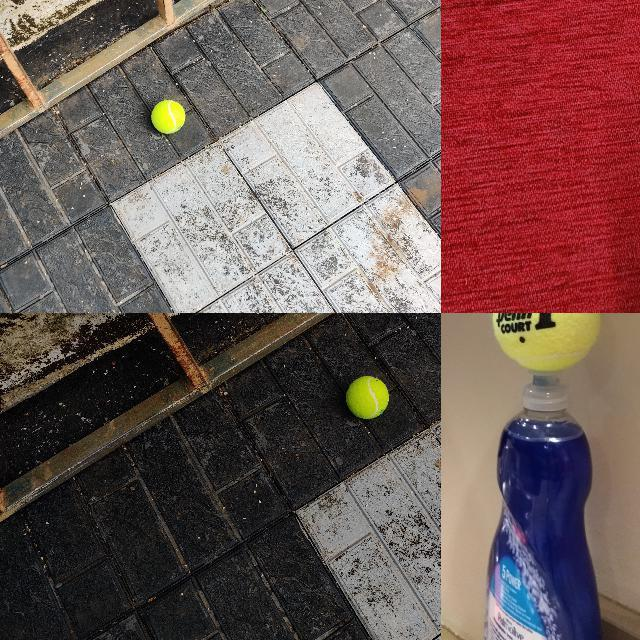tennis-ball: (491, 313, 602, 371), (345, 375, 389, 419), (151, 99, 186, 134)
